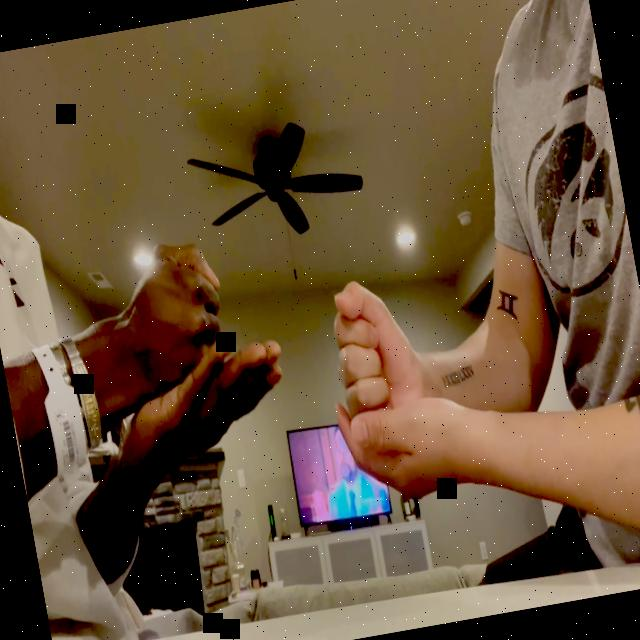Rock: (112, 232, 236, 395), (324, 271, 426, 421)
